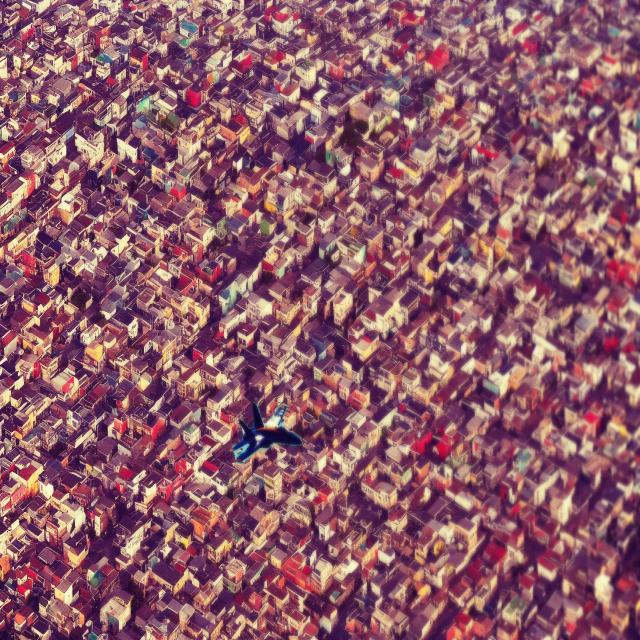airplane: (231, 399, 302, 463)
